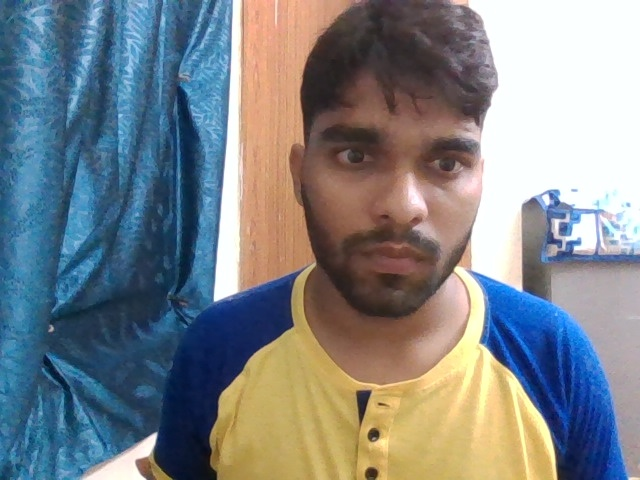No: (394, 359, 406, 371)
